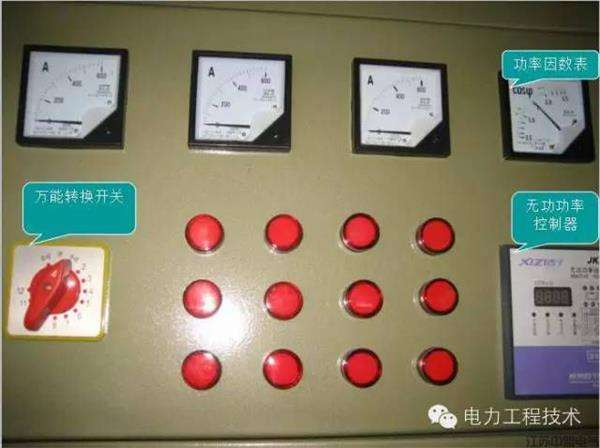pointer: (22, 47, 121, 138), (194, 53, 286, 141), (357, 61, 445, 149)
